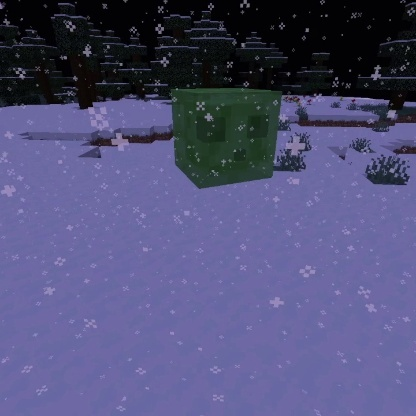slime: (167, 83, 284, 192)
